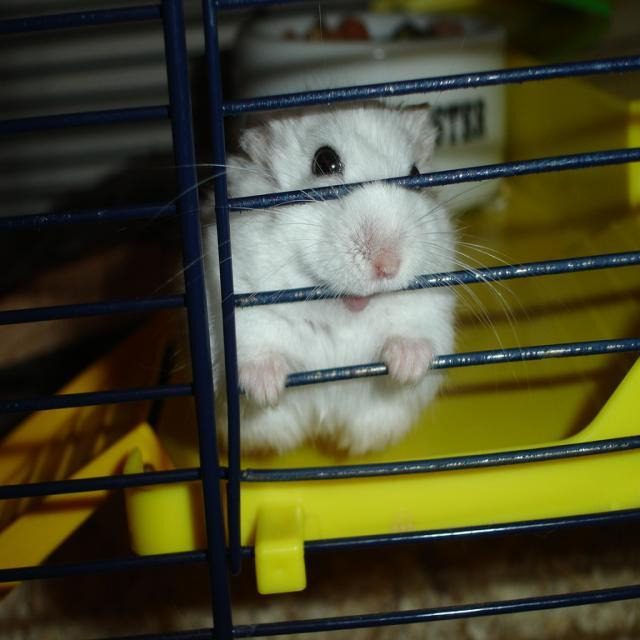rat: (194, 99, 462, 458)
